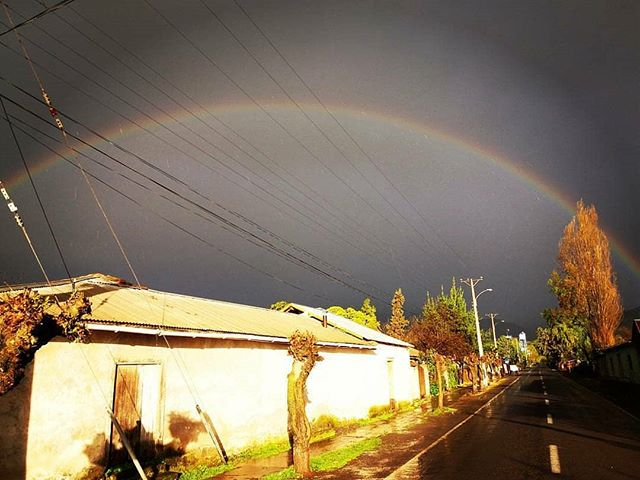building: (1, 290, 400, 480)
rainbow: (5, 91, 637, 301)
sky: (1, 1, 636, 292)
street: (386, 357, 640, 480)
tree: (548, 204, 621, 366), (422, 284, 479, 408)
